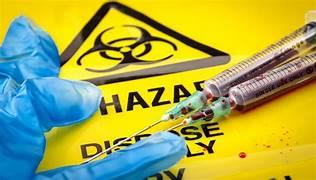Glove: (0, 16, 186, 179)
Syringe: (84, 22, 315, 162), (161, 22, 315, 120), (168, 51, 315, 129)
